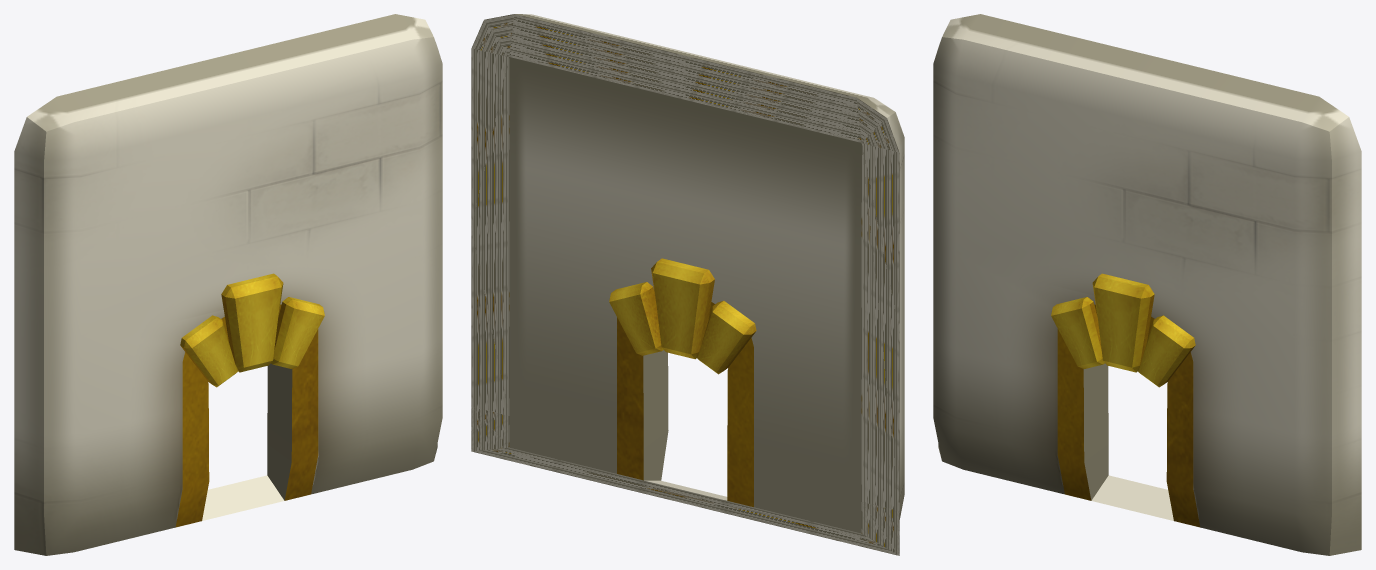
The model's file is FlatHouse_Model.fbx.
3 renders of one model, left to right at view 1: azimuth 30°, elevation 25°; view 2: azimuth 150°, elevation 25°; view 3: azimuth 330°, elevation 25°, orthographic.
Visible parts, largest first — view 1: House_House; view 2: House_House; view 3: House_House.
Part boxes in pixels (x1,y1,x2,y2): House_House: (14,14,442,555); House_House: (471,14,904,555); House_House: (933,14,1361,555).
Size of the model in its own units: 1600 by 1600 by 272.
